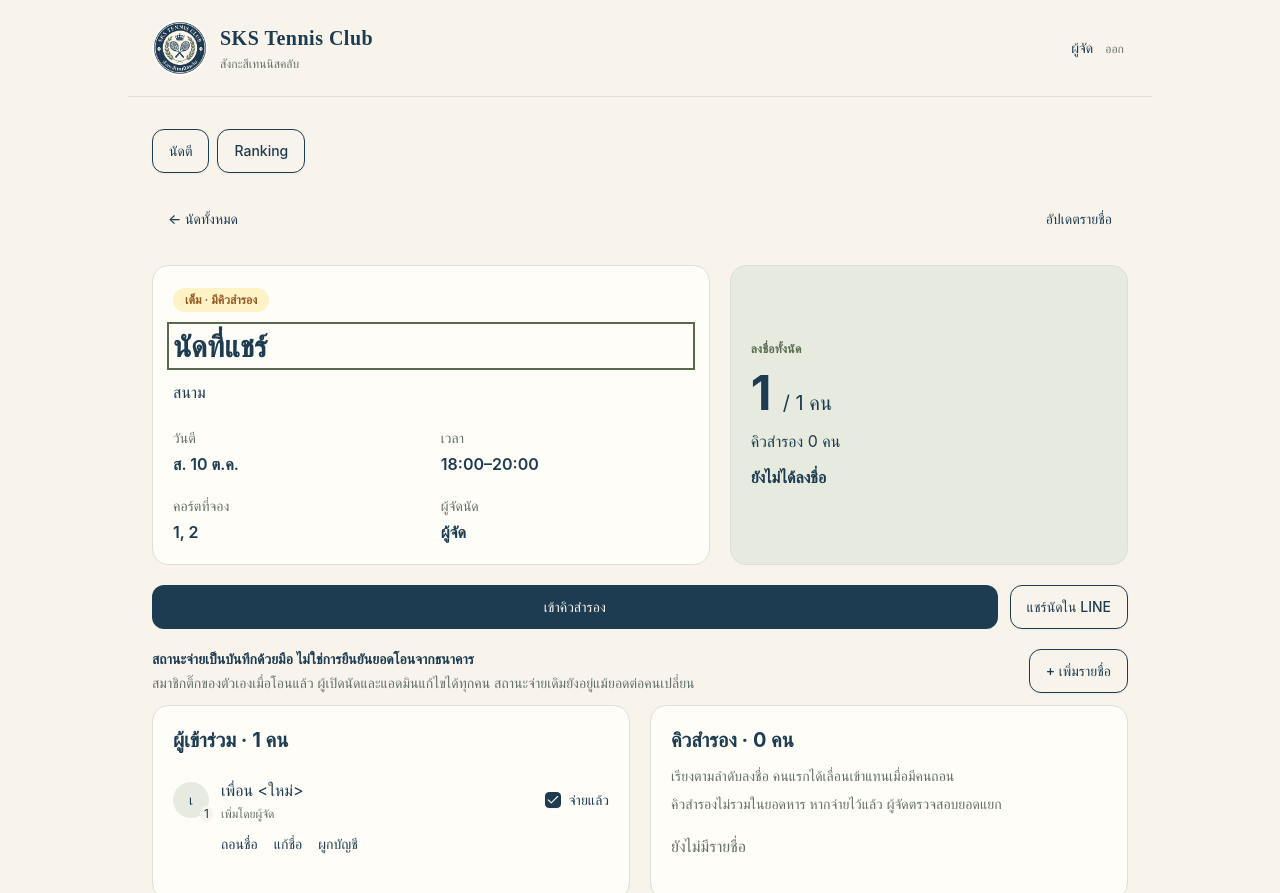
Test: share reflects current status: ชวนมาตีเทนนิส 🎾 (ยอดหารปัจจุบันคนละ 200 บาท)
Step 1. Click the button "แชร์นัดใน LINE" → (1069, 607), box top-left (1010, 585), bottom-right (1128, 629)
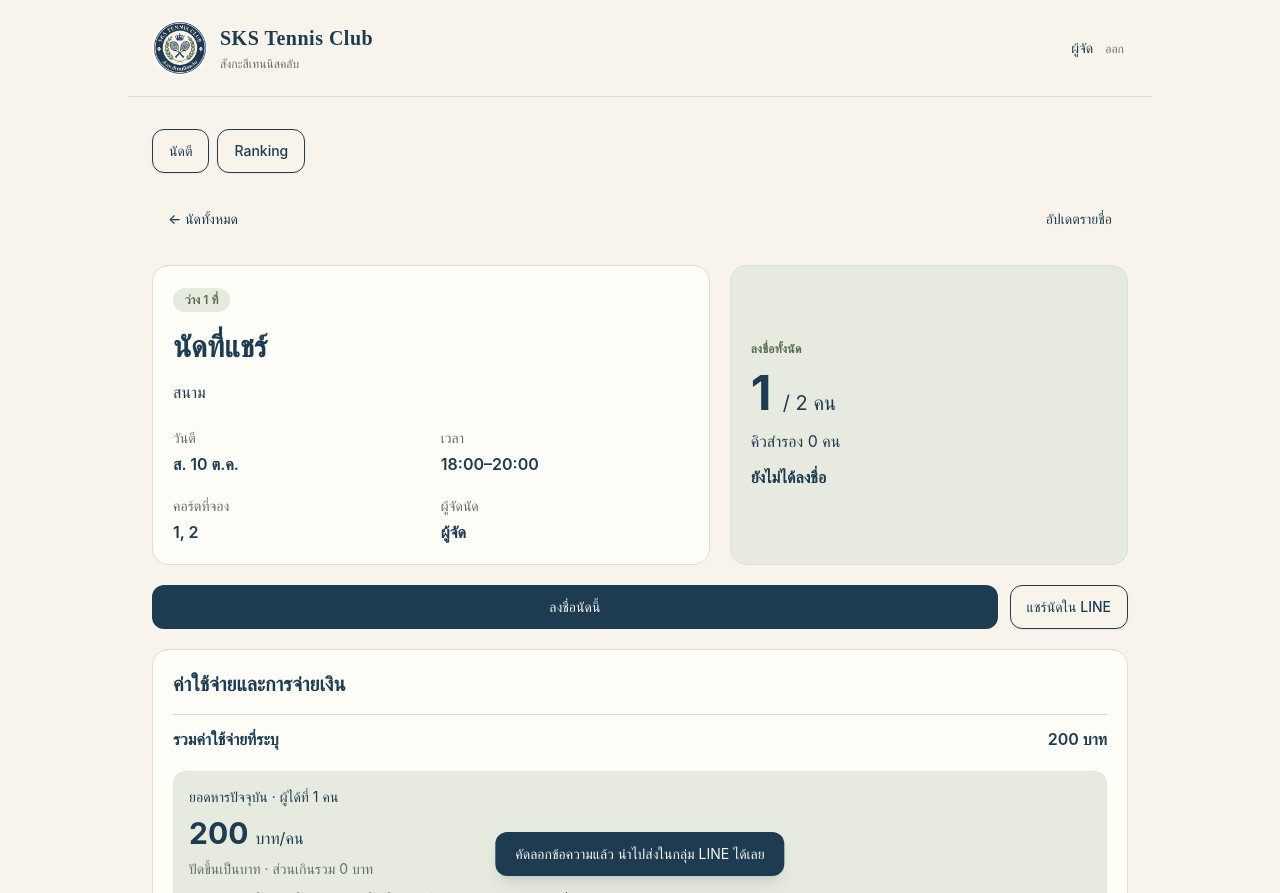
Now the text "คัดลอกข้อความแล้ว นำไปส่งในกลุ่ม LINE ได้เลย" is shown, box top-left (495, 832), bottom-right (785, 876)
